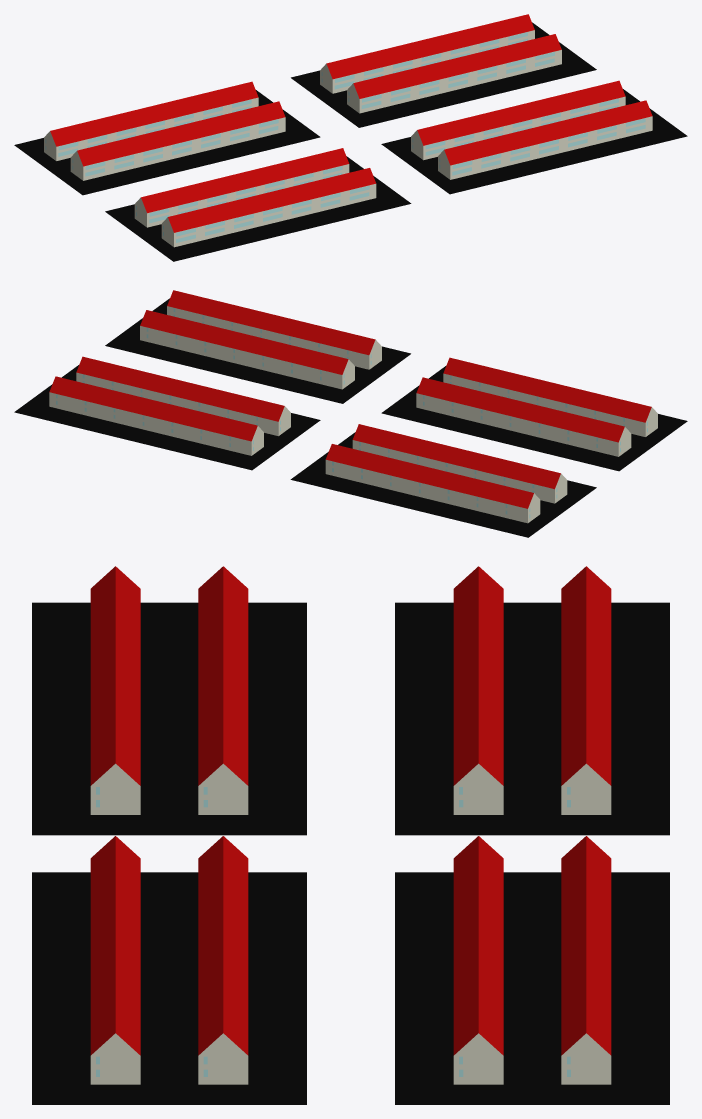
3 views of the same model, one above another, from view 1: azimuth 30°, elevation 25°; view 2: azimuth 150°, elevation 25°; view 3: azimuth 270°, elevation 25° (orthographic). The views are drawn at different scales.
Size of the model in its own units: 216 by 10.34 by 116.
